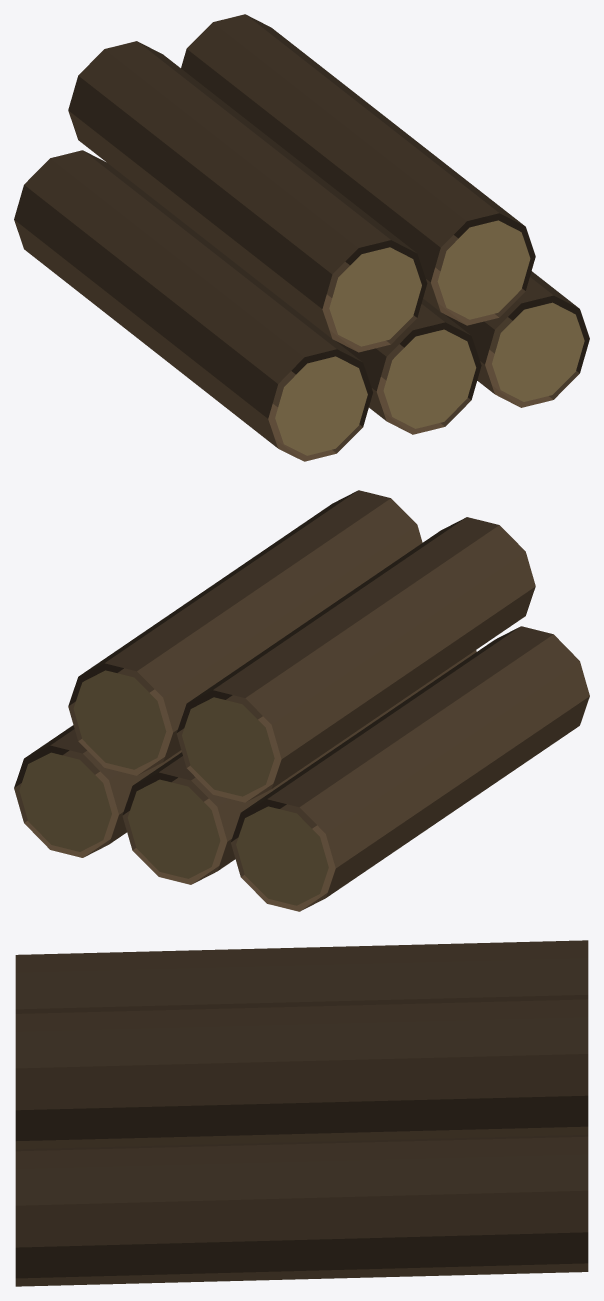
3 views of the same model, one above another, from view 1: azimuth 30°, elevation 25°; view 2: azimuth 150°, elevation 25°; view 3: azimuth 270°, elevation 25° (orthographic). The views are drawn at different scales.
Parts seen in each view (by area): view 1: 71bec05d5c385ac448d6d7798867b5e4814f49b11c086162af2f1563fc2e; view 2: 71bec05d5c385ac448d6d7798867b5e4814f49b11c086162af2f1563fc2e; view 3: 71bec05d5c385ac448d6d7798867b5e4814f49b11c086162af2f1563fc2e.
Part boxes in pixels (x1,y1,x2,y2): 71bec05d5c385ac448d6d7798867b5e4814f49b11c086162af2f1563fc2e: [14, 14, 589, 461]; 71bec05d5c385ac448d6d7798867b5e4814f49b11c086162af2f1563fc2e: [14, 490, 589, 911]; 71bec05d5c385ac448d6d7798867b5e4814f49b11c086162af2f1563fc2e: [15, 940, 588, 1286].
Bounding box in the file's own units: 0.95 × 0.6036 × 1.31.
